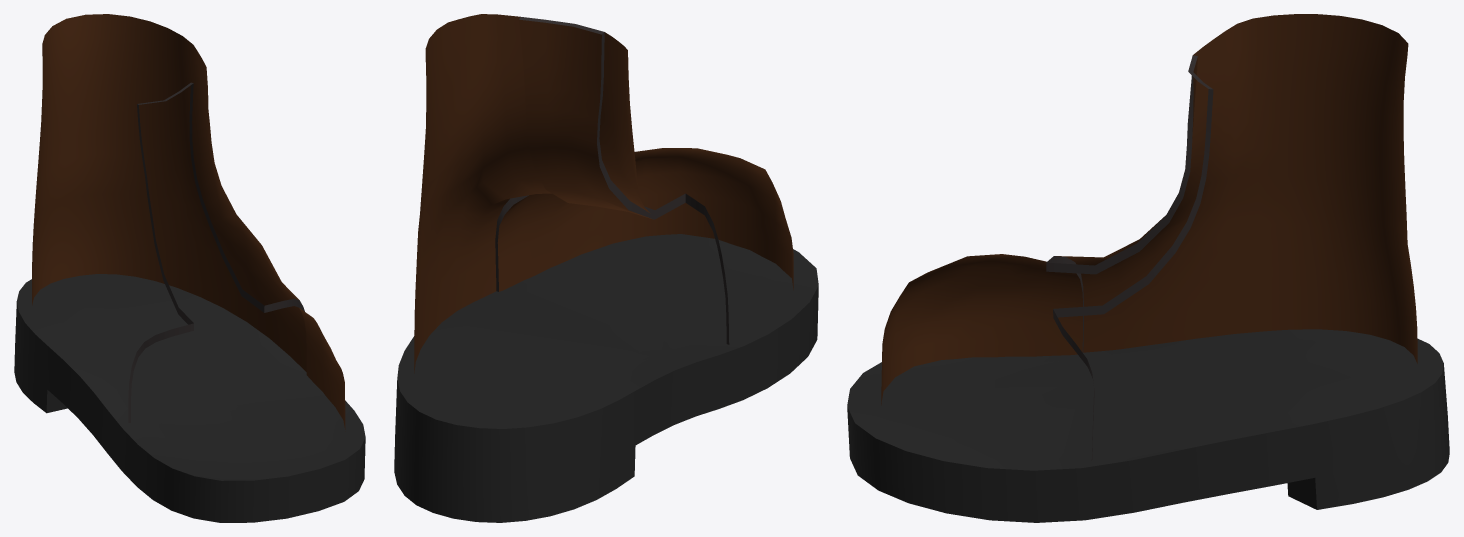
File: Boot.fbx
The picture shows the model from 3 angles, left to right: view 1: azimuth 30°, elevation 25°; view 2: azimuth 150°, elevation 25°; view 3: azimuth 270°, elevation 25°; orthographic projection. The views are drawn at different scales.
Parts seen in each view (by area): view 1: Boot; view 2: Boot; view 3: Boot.
Boxes of the visible parts, <box> form: Boot: <box>14,14,365,522</box>; Boot: <box>394,14,818,522</box>; Boot: <box>847,14,1449,522</box>.
Bounding box in the file's own units: 264 × 127 × 198.
